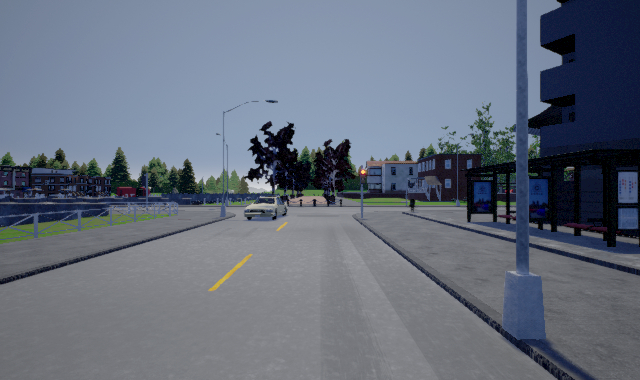traffic_light: (360, 168, 367, 184)
vehicle: (244, 197, 288, 220)
